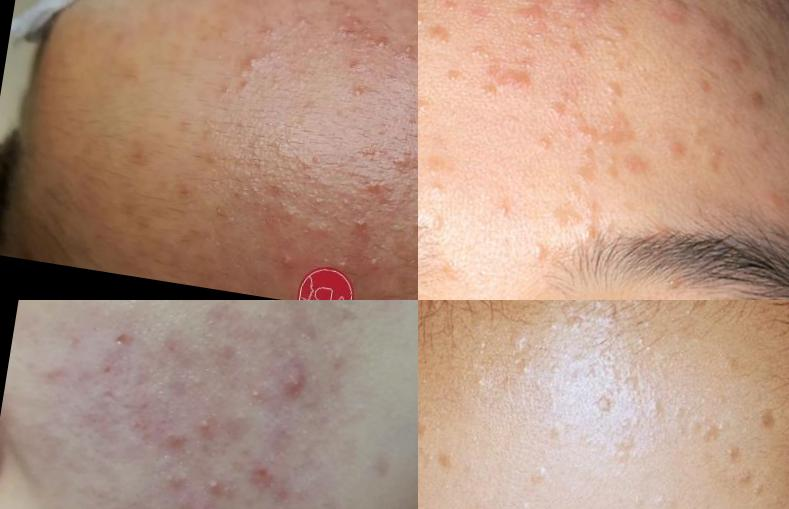flat_wart: (648, 382, 789, 500), (523, 301, 674, 375), (704, 4, 789, 121), (624, 112, 697, 189), (543, 193, 616, 250), (454, 40, 509, 110), (571, 106, 651, 153), (642, 1, 704, 44), (481, 1, 555, 32), (552, 1, 622, 29), (429, 446, 472, 486), (419, 22, 458, 59), (595, 70, 628, 110), (512, 459, 567, 482), (586, 387, 620, 424), (419, 74, 442, 123), (419, 1, 476, 18), (419, 409, 443, 449), (541, 97, 571, 124), (764, 187, 789, 215), (676, 498, 736, 509)
papular: (269, 365, 312, 414)
whitehead: (588, 20, 634, 58), (455, 370, 499, 406), (448, 133, 494, 167), (288, 7, 323, 51), (335, 81, 375, 118), (434, 57, 473, 94), (520, 236, 558, 272), (389, 28, 419, 71), (264, 250, 305, 279), (359, 248, 392, 283), (277, 204, 302, 245), (487, 193, 520, 224), (235, 49, 262, 85), (529, 131, 559, 160), (558, 29, 587, 57), (367, 35, 390, 70), (323, 250, 351, 277), (189, 410, 222, 431), (202, 475, 227, 502), (243, 388, 267, 415), (429, 1, 464, 19), (419, 95, 437, 129), (554, 17, 577, 41), (515, 51, 537, 75), (425, 178, 447, 201)
